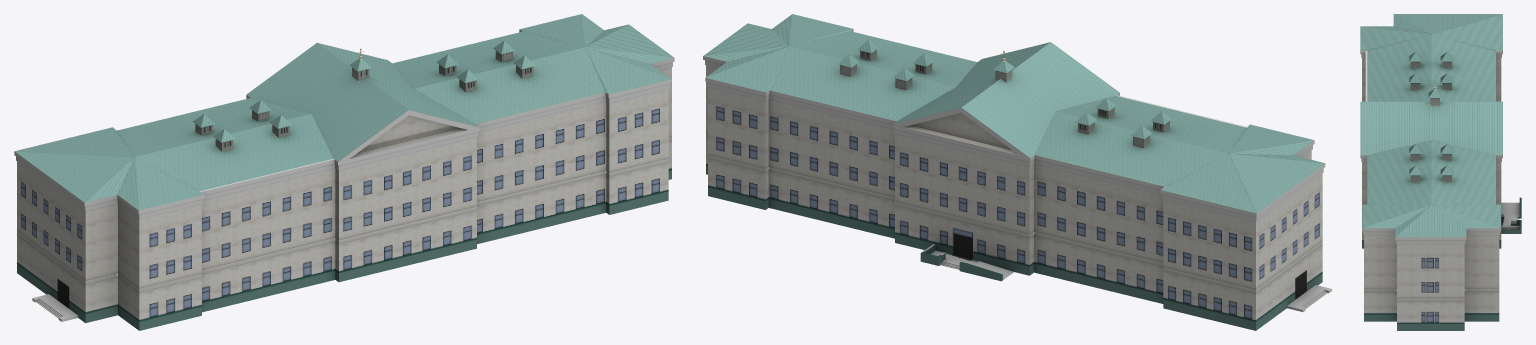
Rendered from ZemskaLikarnya_high+low (2).gltf.
3 views of the same model, side by side, from view 1: azimuth 30°, elevation 25°; view 2: azimuth 150°, elevation 25°; view 3: azimuth 270°, elevation 25° (orthographic). The views are drawn at different scales.
Parts seen in each view (by area): view 1: d3db48a3-b06f-40e7-80f5-5da0f6606894; view 2: d3db48a3-b06f-40e7-80f5-5da0f6606894; view 3: d3db48a3-b06f-40e7-80f5-5da0f6606894.
Part boxes in pixels (bbox=[...]): d3db48a3-b06f-40e7-80f5-5da0f6606894: bbox=[14, 14, 674, 330]; d3db48a3-b06f-40e7-80f5-5da0f6606894: bbox=[703, 14, 1331, 330]; d3db48a3-b06f-40e7-80f5-5da0f6606894: bbox=[1360, 14, 1521, 330].
Bounding box in the file's own units: 54.86 × 15.78 × 16.3.
Materials: 2 (2 with a texture image).
